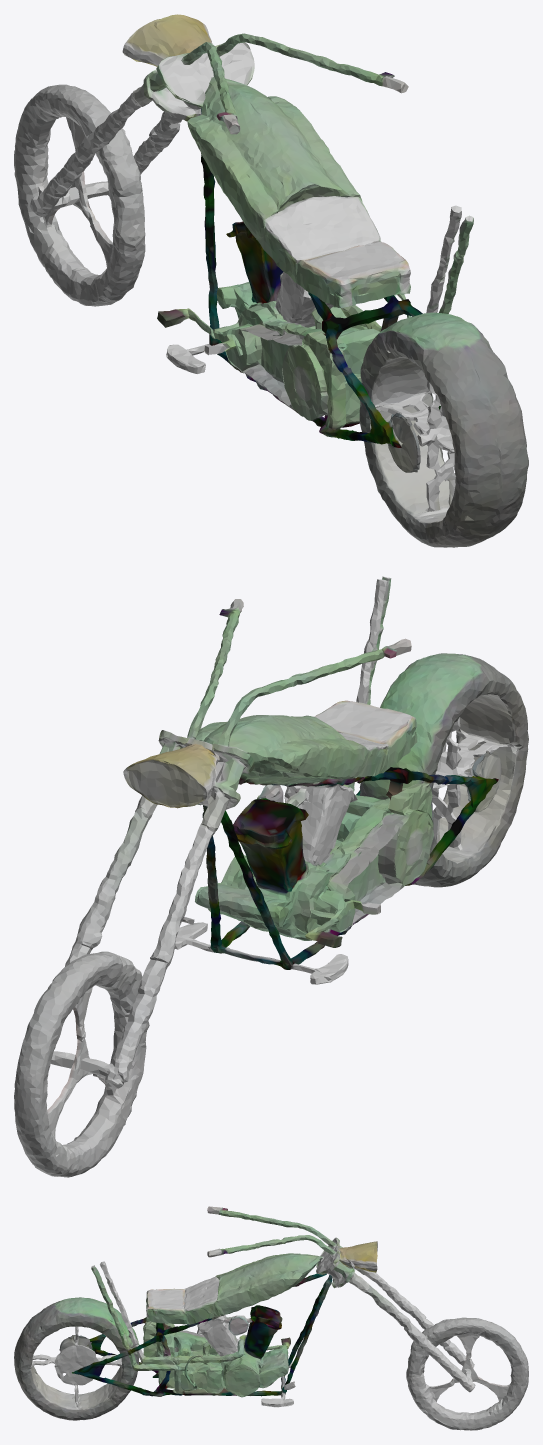
3 renders of one model, top to bottom at view 1: azimuth 30°, elevation 25°; view 2: azimuth 150°, elevation 25°; view 3: azimuth 270°, elevation 25°, orthographic. The views are drawn at different scales.
Visible parts, largest first — view 1: defaultobject; view 2: defaultobject; view 3: defaultobject.
Part boxes in pixels (x1=…): defaultobject: x1=14, y1=14, x2=528, y2=547; defaultobject: x1=14, y1=576, x2=528, y2=1177; defaultobject: x1=14, y1=1206, x2=528, y2=1430.
Bounding box in the file's own units: 0.2055 × 0.4087 × 0.9497.
